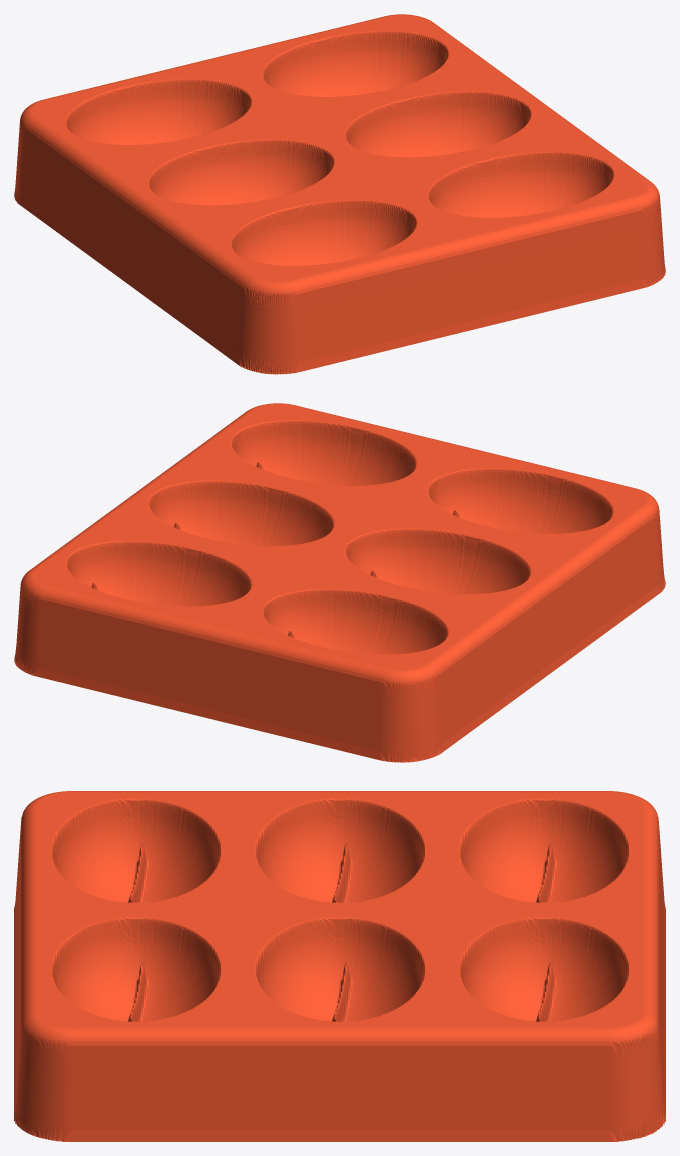
The model's file is mold.glb.
3 renders of one model, top to bottom at view 1: azimuth 30°, elevation 25°; view 2: azimuth 150°, elevation 25°; view 3: azimuth 270°, elevation 25°, orthographic. The views are drawn at different scales.
Visible parts, largest first — view 1: geometry_0; view 2: geometry_0; view 3: geometry_0.
Part boxes in pixels (box(x1,y1,x2,y2)): geometry_0: box(14, 14, 665, 374); geometry_0: box(14, 403, 665, 762); geometry_0: box(14, 791, 665, 1141).
Size of the model in its own units: 0.0947 by 0.0182 by 0.1026.
